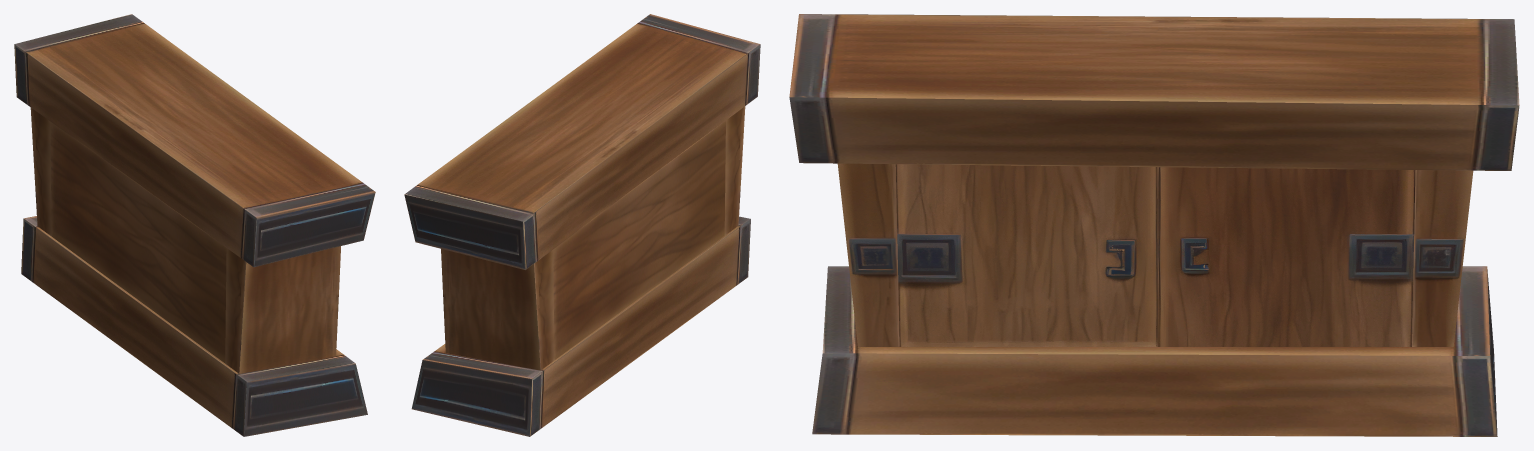
File: bookshelfdwarvensimple01.obj
3 renders of one model, left to right at view 1: azimuth 30°, elevation 25°; view 2: azimuth 150°, elevation 25°; view 3: azimuth 270°, elevation 25°, orthographic. The views are drawn at different scales.
Parts seen in each view (by area): view 1: bookshelfdwarvensimple01; view 2: bookshelfdwarvensimple01; view 3: bookshelfdwarvensimple01.
Part boxes in pixels (box(x1,y1,x2,y2)): bookshelfdwarvensimple01: box(14, 14, 375, 436); bookshelfdwarvensimple01: box(404, 14, 760, 436); bookshelfdwarvensimple01: box(789, 14, 1519, 436).
Size of the model in its own units: 0.8573 by 1.57 by 3.07.
Materials: 1 (1 with a texture image).
